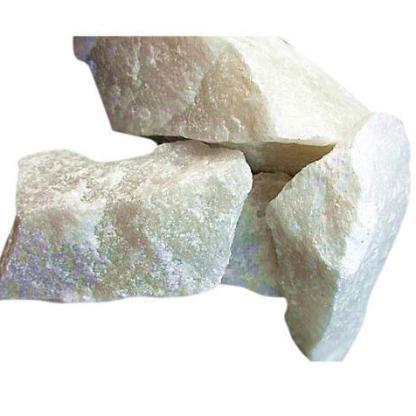Sedimentary_Limestone: (17, 180, 199, 259), (295, 162, 381, 320), (164, 56, 288, 150)
